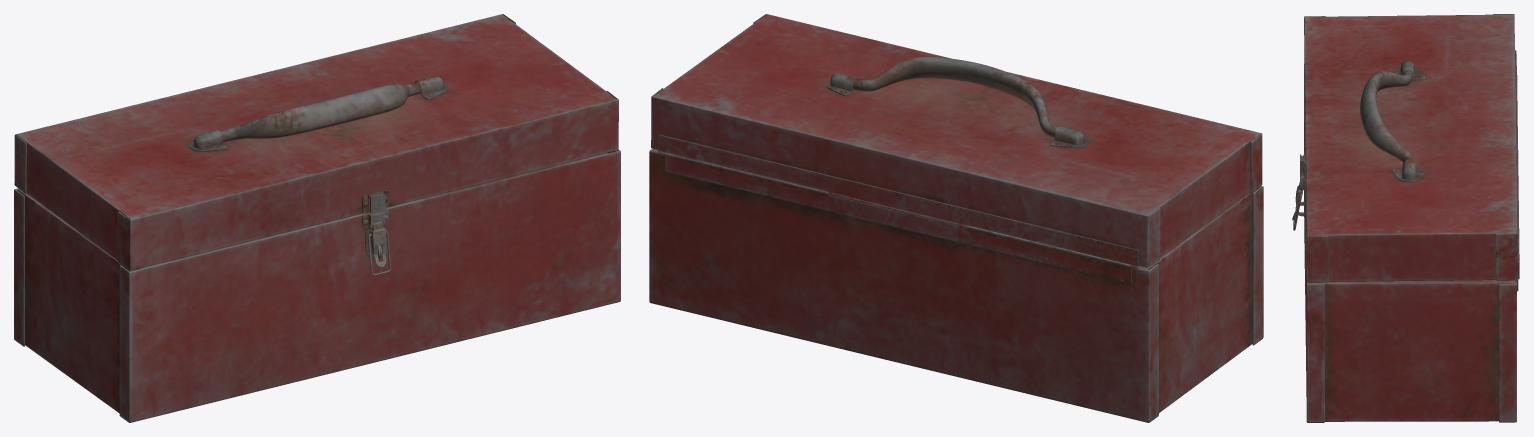
Rendered from Toolbox_Sketchfab.fbx.
3 views of the same model, side by side, from view 1: azimuth 30°, elevation 25°; view 2: azimuth 150°, elevation 25°; view 3: azimuth 270°, elevation 25° (orthographic). The views are drawn at different scales.
Parts seen in each view (by area): view 1: ToolBox_Base, ToolBox_Lid; view 2: ToolBox_Base, ToolBox_Lid; view 3: ToolBox_Lid, ToolBox_Base.
Boxes of the visible parts, x1,y1,x2,y2 form: ToolBox_Base: (14,150,620,422); ToolBox_Lid: (14,14,618,270); ToolBox_Base: (649,148,1263,422); ToolBox_Lid: (651,14,1262,268); ToolBox_Lid: (1300,14,1519,282); ToolBox_Base: (1292,64,1519,422).
Size of the model in its own units: 50.9 by 23.47 by 22.1.
1 material, 1 textured.
